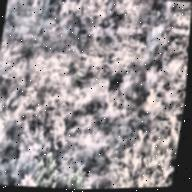boar: (104, 63, 130, 93)
